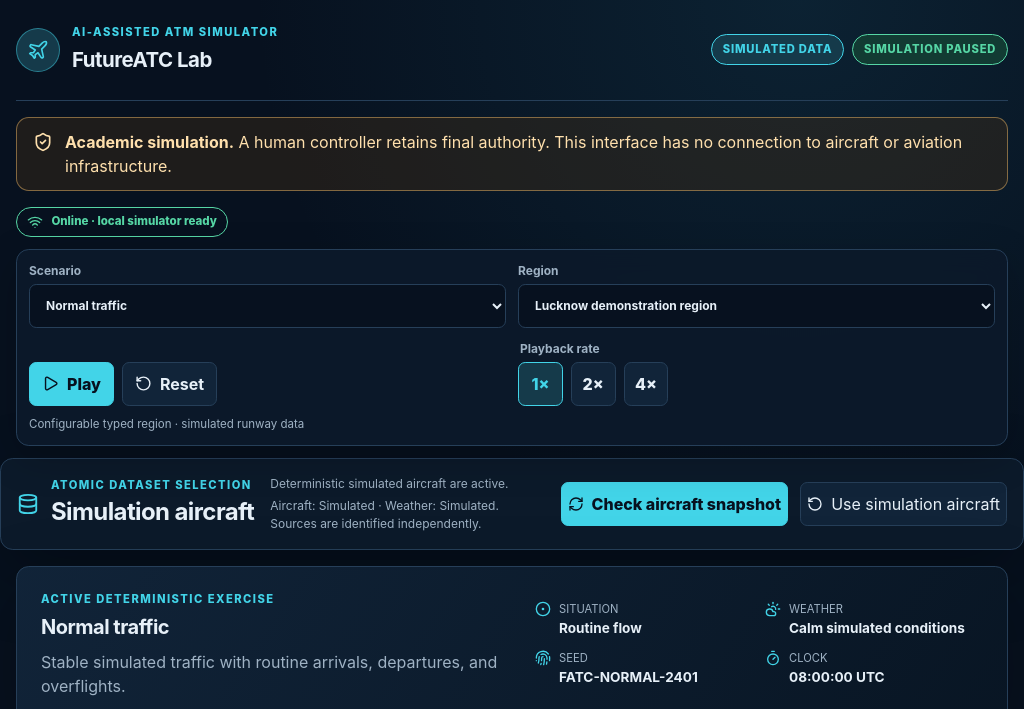
Test: external aircraft mode integration › presents a valid fresh empty snapshot without crashing
Click the button "Check aircraft snapshot". click: x=674, y=504
box: [561,482,788,526]
(page scrolled)
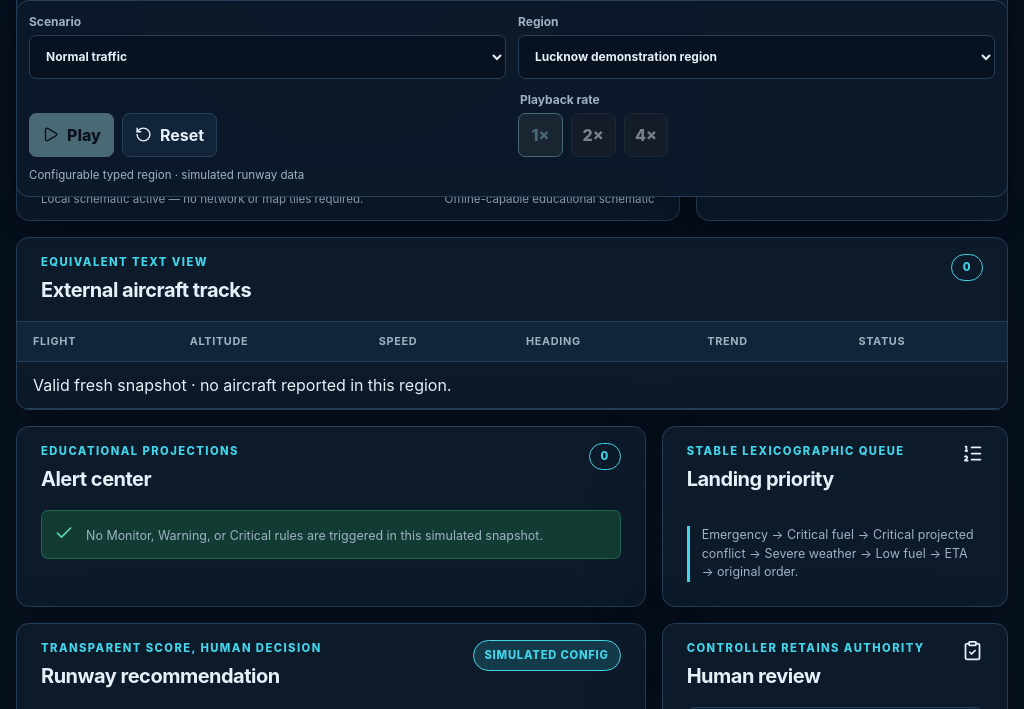
Result: the text "Valid fresh snapshot · no aircraft reported in this region." is shown at [17,361,1007,409]
